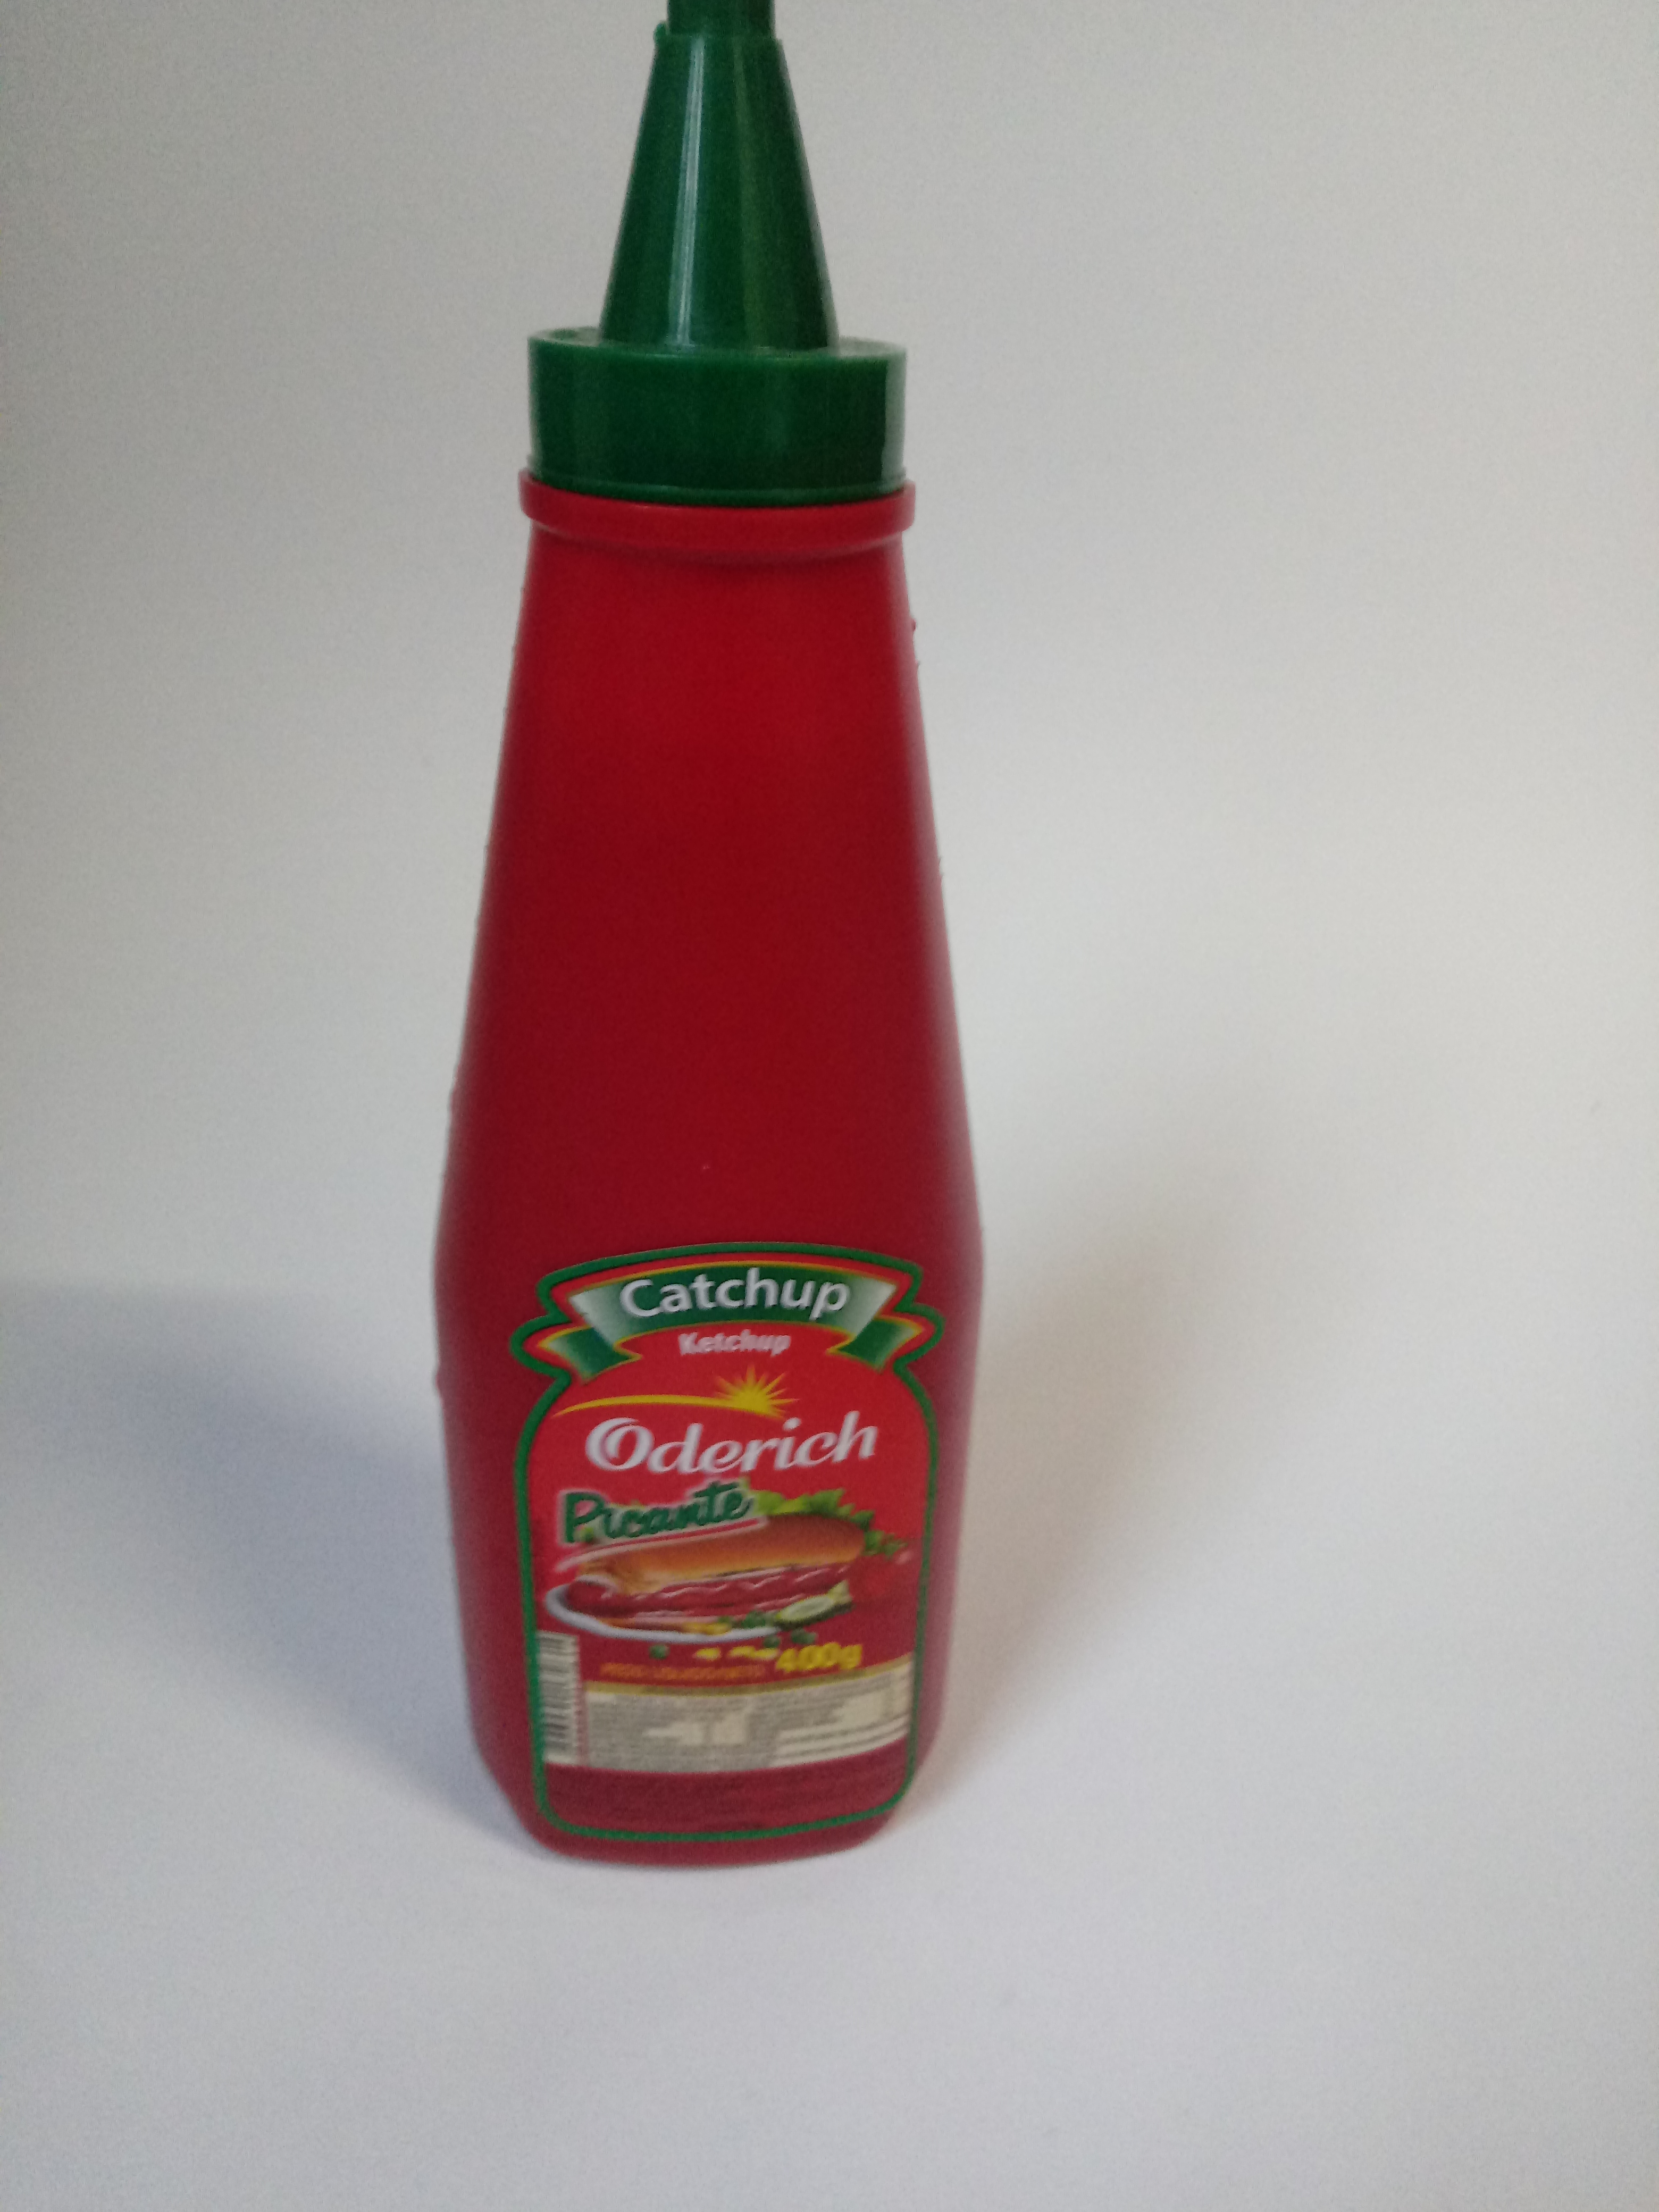catchup-oderich: (396, 2, 995, 1916)
